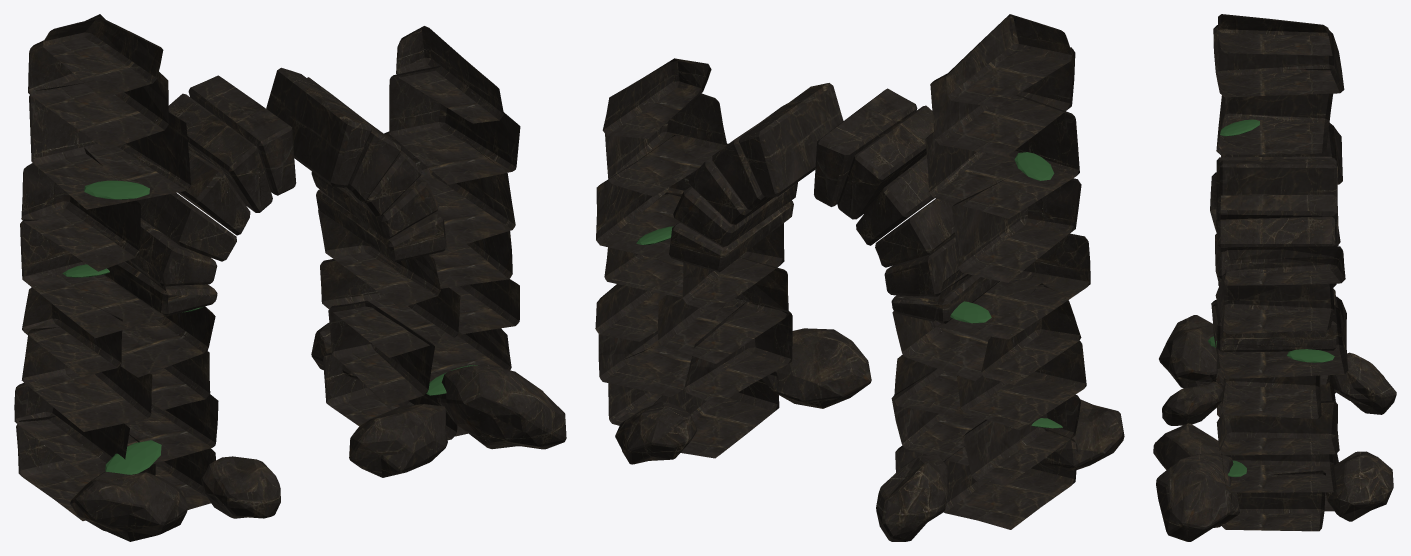
The model's file is ruin_arch_broken.glb.
The picture shows the model from 3 angles, left to right: view 1: azimuth 30°, elevation 25°; view 2: azimuth 150°, elevation 25°; view 3: azimuth 270°, elevation 25°; orthographic projection. The views are drawn at different scales.
Visible parts, largest first — view 1: ruin_arch_broken; view 2: ruin_arch_broken; view 3: ruin_arch_broken.
Part boxes in pixels (left/top/right/bottom): ruin_arch_broken: left=14, top=14, right=566, bottom=541; ruin_arch_broken: left=595, top=14, right=1124, bottom=541; ruin_arch_broken: left=1153, top=14, right=1396, bottom=541.
Size of the model in its own units: 4 by 3.8 by 2.22.
Materials: 2 (1 with a texture image).
